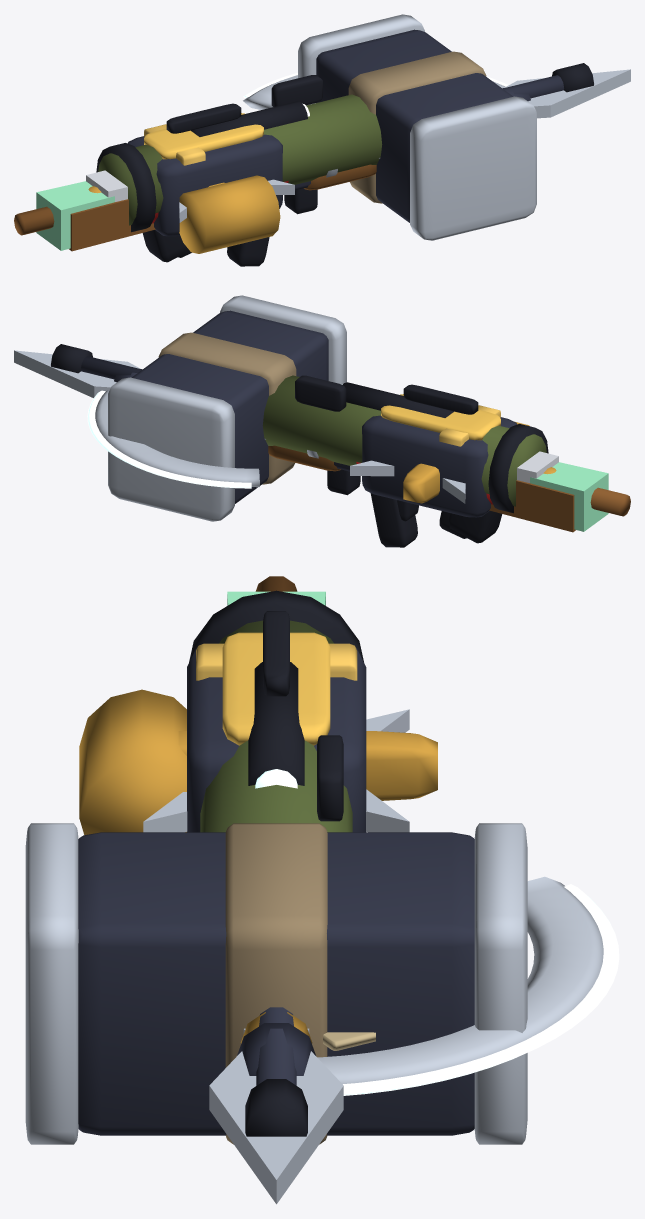
The model's file is weapons.glb.
3 views of the same model, one above another, from view 1: azimuth 30°, elevation 25°; view 2: azimuth 150°, elevation 25°; view 3: azimuth 270°, elevation 25° (orthographic). The views are drawn at different scales.
Parts seen in each view (by area): view 1: hammer_face2, hammer_head, rocket_tube, minigun_ammo, minigun_housing, hammer_band, hammer_face1, sniper_stock, shotgun_stock, minigun_top, spear_head, rocket_rim-0.15 (+14 smaller); view 2: hammer_face1, hammer_head, minigun_housing, rocket_tube, hammer_band, hammer_face2, scythe_blade, sniper_stock, shotgun_stock, minigun_top, rocket_rim-0.15, spear_head (+15 smaller); view 3: hammer_head, hammer_band, hammer_face2, hammer_face1, scythe_blade, minigun_ammo, minigun_housing, spear_head, rocket_tube, minigun_top, scythe_edge_glow, sword_guard (+9 smaller).
Boxes of the visible parts, <box> form: hammer_face2: <box>410,96,536,240</box>; hammer_head: <box>316,29,512,222</box>; rocket_tube: <box>98,94,382,225</box>; minigun_ammo: <box>179,175,280,253</box>; minigun_housing: <box>127,134,282,236</box>; hammer_band: <box>348,51,486,203</box>; hammer_face1: <box>298,14,424,105</box>; sniper_stock: <box>36,181,114,250</box>; shotgun_stock: <box>69,199,155,251</box>; minigun_top: <box>144,113,263,159</box>; spear_head: <box>504,69,630,118</box>; rocket_rim-0.15: <box>96,143,156,232</box>; hammer_face1: <box>108,377,234,521</box>; hammer_head: <box>132,310,328,503</box>; minigun_housing: <box>362,415,517,517</box>; rocket_tube: <box>262,375,546,506</box>; hammer_band: <box>158,332,296,484</box>; hammer_face2: <box>220,295,346,384</box>; scythe_blade: <box>95,389,259,487</box>; sniper_stock: <box>530,462,608,531</box>; shotgun_stock: <box>489,480,575,532</box>; minigun_top: <box>381,394,500,440</box>; rocket_rim-0.15: <box>488,424,548,513</box>; spear_head: <box>14,350,140,397</box>; hammer_head: <box>78,832,474,1135</box>; hammer_band: <box>225,823,327,1144</box>; hammer_face2: <box>25,823,78,1144</box>; hammer_face1: <box>474,823,527,1144</box>; scythe_blade: <box>317,876,603,1083</box>; minigun_ammo: <box>79,689,186,835</box>; minigun_housing: <box>187,648,366,832</box>; spear_head: <box>209,1051,343,1204</box>; rocket_tube: <box>200,620,352,832</box>; minigun_top: <box>222,632,330,745</box>; scythe_edge_glow: <box>343,884,619,1095</box>; sword_guard: <box>178,731,437,800</box>.
Bounding box in the file's own units: 3.15 × 0.7958 × 1.32.
